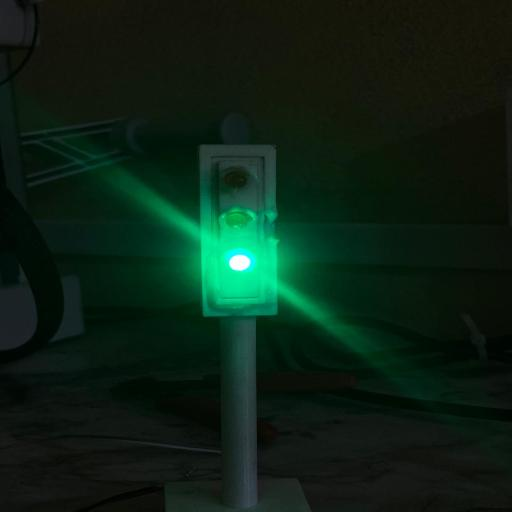Green Light: (229, 254, 251, 271)
